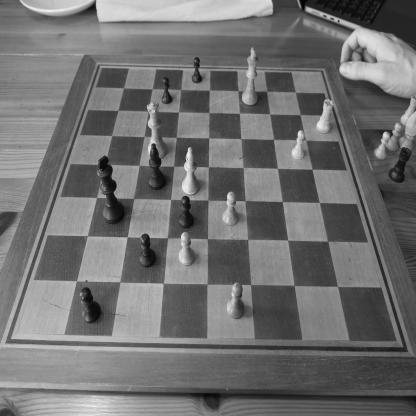black-bishop: (147, 143, 166, 191)
black-king: (96, 155, 125, 225)
black-pawn: (79, 286, 101, 324), (139, 233, 156, 268), (178, 194, 194, 228), (161, 75, 173, 105), (192, 57, 202, 84)
black-rook: (388, 147, 412, 184)
white-bishop: (181, 146, 200, 196)
white-king: (241, 47, 259, 106)
white-pawn: (226, 282, 245, 320), (178, 232, 195, 266), (222, 191, 238, 227), (385, 121, 403, 151), (373, 131, 390, 161), (291, 130, 306, 160)
white-queen: (146, 101, 168, 159)
white-rook: (316, 98, 334, 134)
